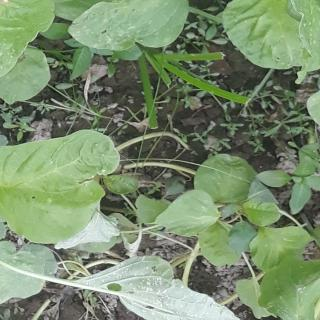virus_keriting: (72, 148, 117, 192)
